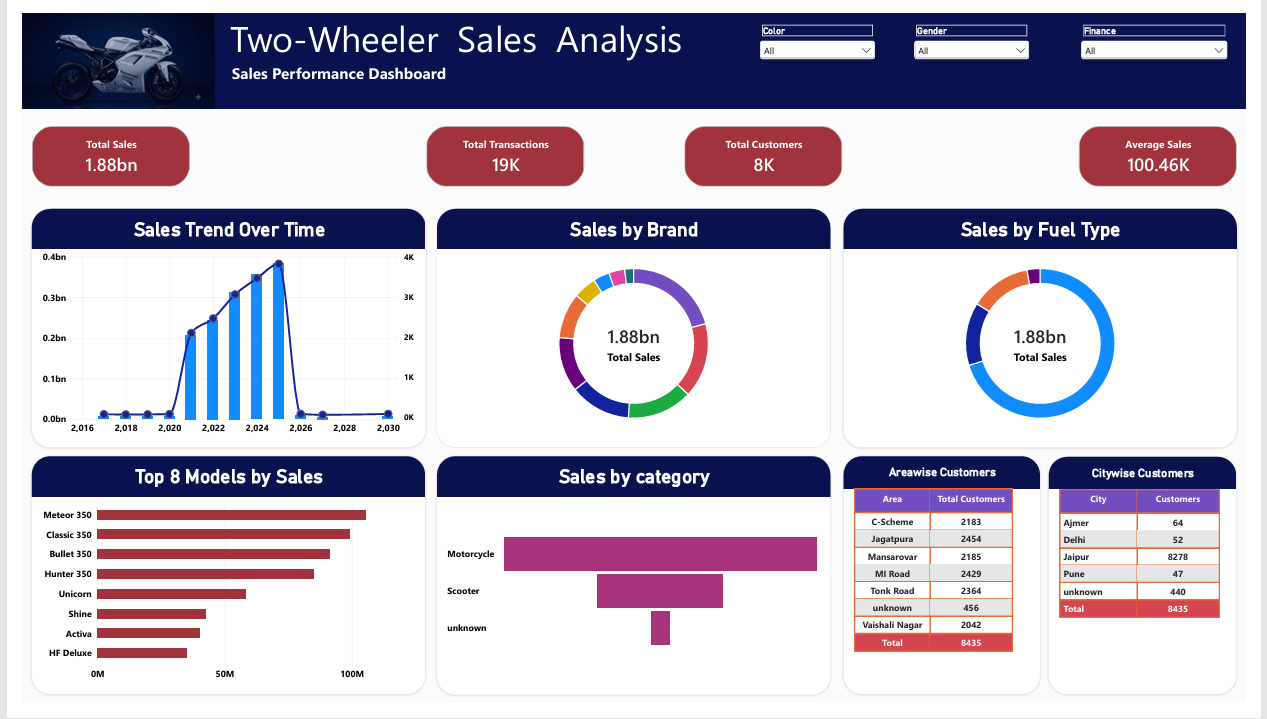

Layout of this report page (visuals, bound fields, positions):
{"tool":"powerbi","page":{"name":"Page 1","canvas":[1920,1080],"ordinal":0},"visuals":[{"type":"donutChart","title":"Sales by  Brand","fields":{"Category":["clean_data.Brand"],"Y":["clean_data.Total Sales"]},"box":[650,306,619.2,375.6],"z":0},{"type":"donutChart","title":"Sales by  Fuel Type","fields":{"Category":["clean_data.fuel"],"Y":["clean_data.Total Sales"]},"box":[1288.1,306,619,376.2],"z":1000},{"type":"lineClusteredColumnComboChart","title":"Sales Trend Over Time","fields":{"Category":["clean_data.Year"],"Y":["clean_data.Total Sales"],"Y2":["clean_data.Total Transactions"]},"box":[14.3,306,619.2,375.6],"z":2000},{"type":"barChart","title":"Top 8  Models  by  Sales","fields":{"Category":["clean_data.Model"],"Y":["clean_data.Total Sales"]},"box":[14.3,694,619,375],"z":3000},{"type":"funnel","title":"Sales by category","fields":{"Category":["clean_data.category"],"Y":["clean_data.Total Sales"]},"box":[650,694.4,619,376],"z":4000},{"type":"tableEx","title":"Areawise  Customers","fields":{"Values":["clean_data.area","clean_data.Total Customers"]},"box":[1287.5,693.8,310,375],"z":4001},{"type":"tableEx","title":"Citywise  Customers","fields":{"Values":["clean_data.city","clean_data.Total Customers"]},"box":[1610,695,296.2,373.8],"z":4003},{"type":"textbox","box":[0,0,1919.6,150],"z":4004},{"type":"slicer","fields":{"Values":["clean_data.color"]},"box":[1152.6,17.9,190.5,75.8],"z":4005},{"type":"slicer","fields":{"Values":["clean_data.color"]},"box":[2143.5,18.5,190.5,75.8],"z":4006},{"type":"slicer","fields":{"Values":["clean_data.Gender"]},"box":[1394.9,17.9,190.4,75.6],"z":4007},{"type":"slicer","fields":{"Values":["clean_data.finance"]},"box":[1657.1,17.9,238.5,76.3],"z":4008},{"type":"cardVisual","fields":{"Data":["clean_data.Total Sales"]},"box":[14.9,177,248.8,95.1],"z":4009},{"type":"cardVisual","fields":{"Data":["clean_data.Total Transactions"]},"box":[633.8,177,248.8,95.1],"z":4010},{"type":"cardVisual","fields":{"Data":["clean_data.Total Customers"]},"box":[1039.2,177,248.8,95.1],"z":4011},{"type":"cardVisual","fields":{"Data":["clean_data.Average Sales"]},"box":[1658.1,177,248.8,95.1],"z":4012},{"type":"image","box":[0,0,301.7,150],"z":4013}]}

Visuals, with their boxes in screenshot pixels (x1, y1, x2, y2), scaled from the page's 1920x1080 canvas onto the 1267x719 screenshot:
"Sales by  Brand" donutChart: box=[429, 204, 838, 454]
"Sales by  Fuel Type" donutChart: box=[850, 204, 1258, 454]
"Sales Trend Over Time" lineClusteredColumnComboChart: box=[9, 204, 418, 454]
"Top 8  Models  by  Sales" barChart: box=[9, 462, 418, 712]
"Sales by category" funnel: box=[429, 462, 837, 713]
"Areawise  Customers" tableEx: box=[850, 462, 1054, 712]
"Citywise  Customers" tableEx: box=[1062, 463, 1258, 712]
textbox: box=[0, 0, 1266, 100]
slicer - clean_data.color: box=[761, 12, 886, 62]
slicer - clean_data.Gender: box=[920, 12, 1046, 62]
slicer - clean_data.finance: box=[1094, 12, 1251, 63]
cardVisual - clean_data.Total Sales: box=[10, 118, 174, 181]
cardVisual - clean_data.Total Transactions: box=[418, 118, 582, 181]
cardVisual - clean_data.Total Customers: box=[686, 118, 850, 181]
cardVisual - clean_data.Average Sales: box=[1094, 118, 1258, 181]
image: box=[0, 0, 199, 100]
